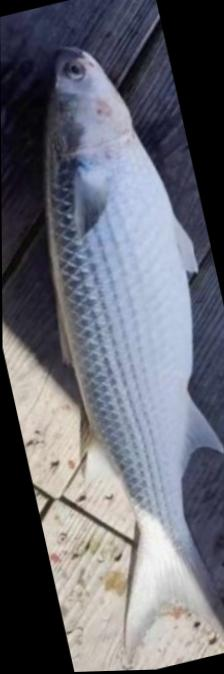fish: (44, 48, 224, 662)
